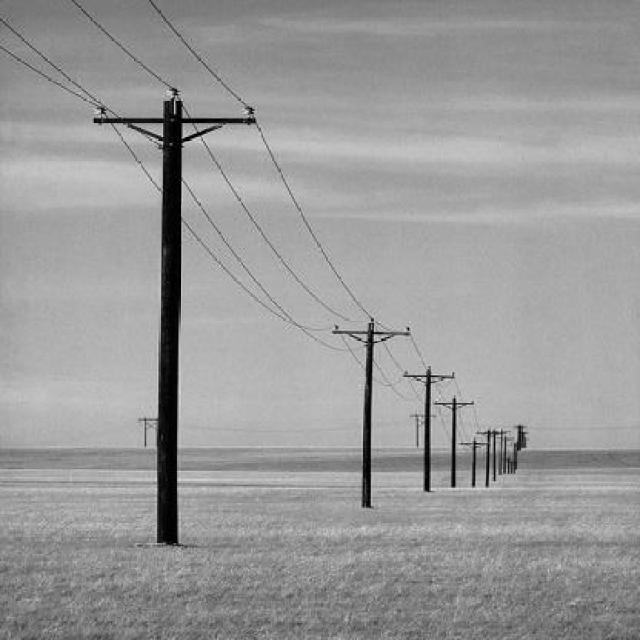Pole: (156, 95, 182, 544), (435, 396, 474, 487), (361, 320, 372, 507), (424, 366, 430, 492)
